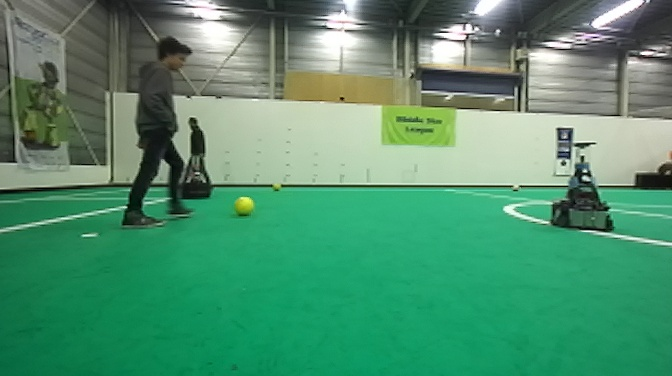ball: (232, 195, 256, 220), (270, 179, 284, 194), (510, 182, 522, 194)
human: (120, 32, 196, 230), (179, 116, 214, 191)
robot: (549, 139, 616, 232), (177, 153, 215, 201)
